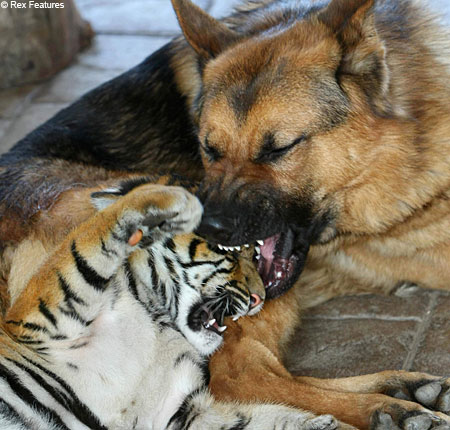dog: (3, 1, 442, 299)
tiger: (1, 204, 258, 430)
